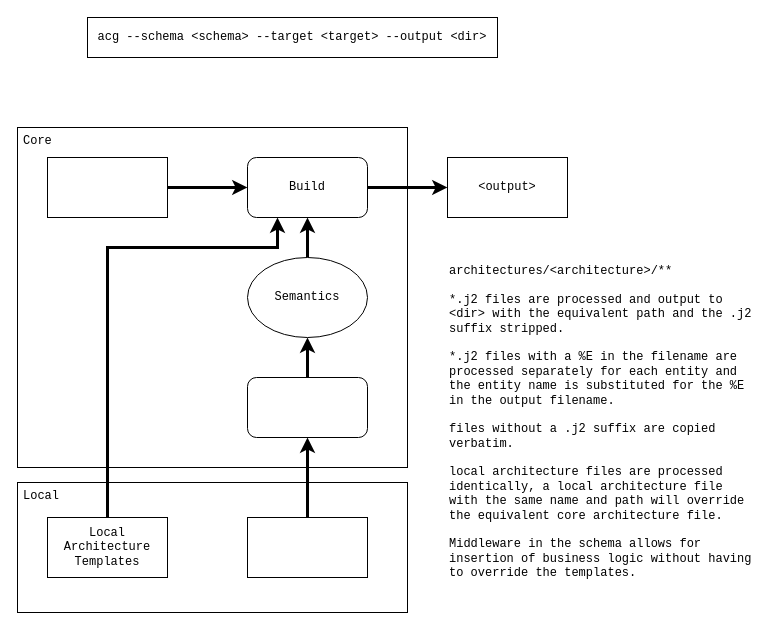
Image size: 775x630. Some labels were removed from this diagram. Here are the shapes that lost their labels. From the top down, the centre of each, then its label:
At point (107, 187): "Architecture Templates".
At point (307, 407): "Parse Schema".
At point (307, 547): "XML Schema".
